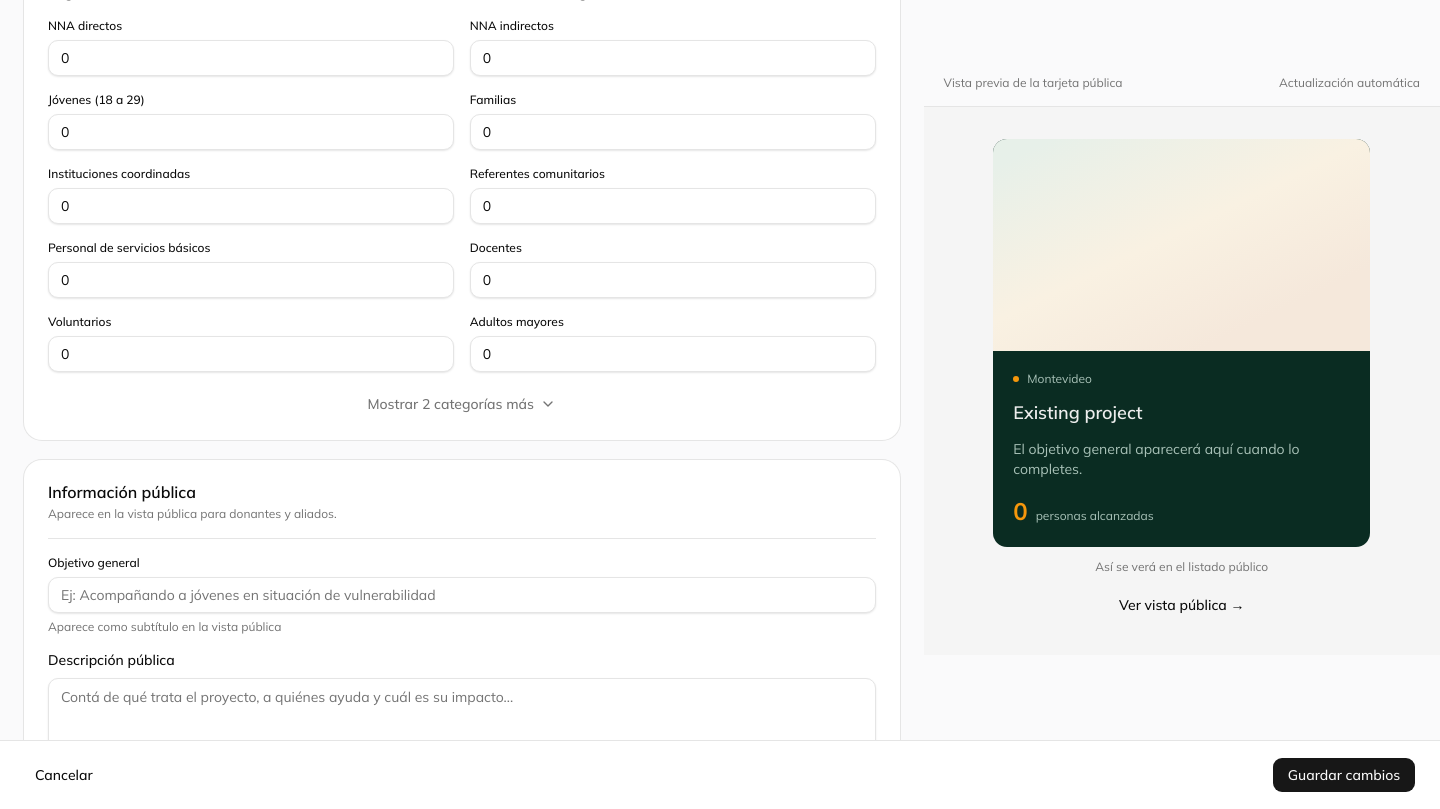
Scenario: hides the beneficiary categories after the first ten behind a toggle
The width and height of the screenshot is (1440, 809).
(page scrolled)
Click the button "Mostrar 2 categorías más".
click(462, 404)  # box x1=48 y1=388 x2=876 y2=420
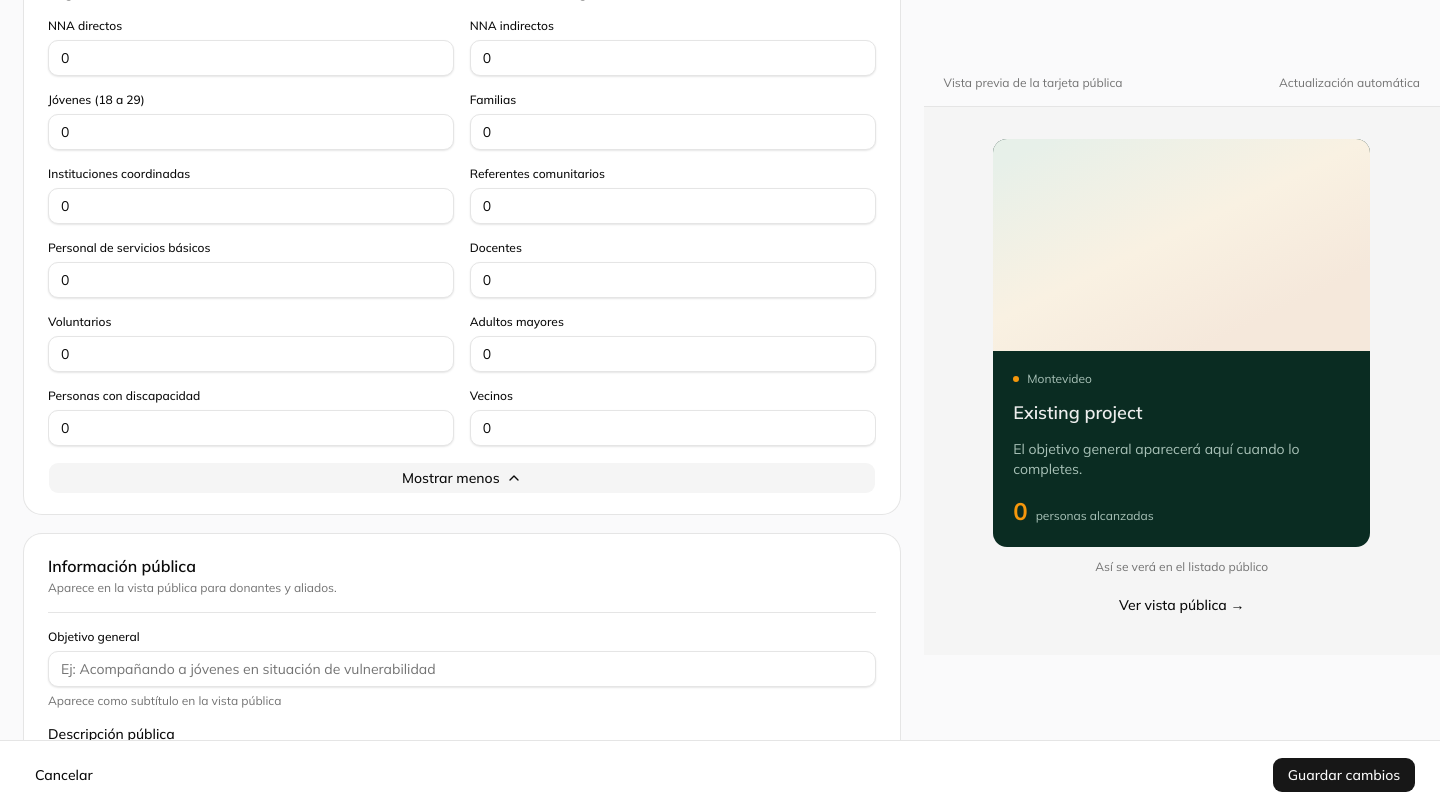
Result: the button "Mostrar menos" is shown at x1=48 y1=462 x2=876 y2=494
